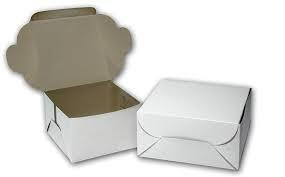box: (5, 6, 144, 164), (137, 78, 251, 171)
